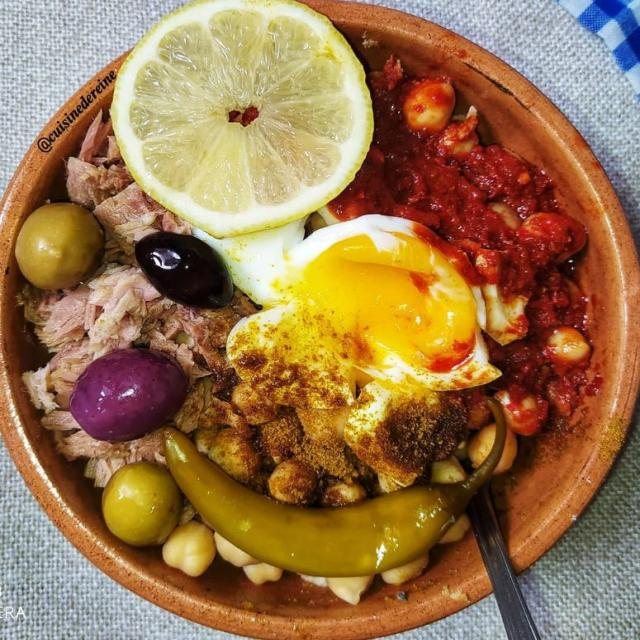Lablabi: (40, 100, 593, 604)
